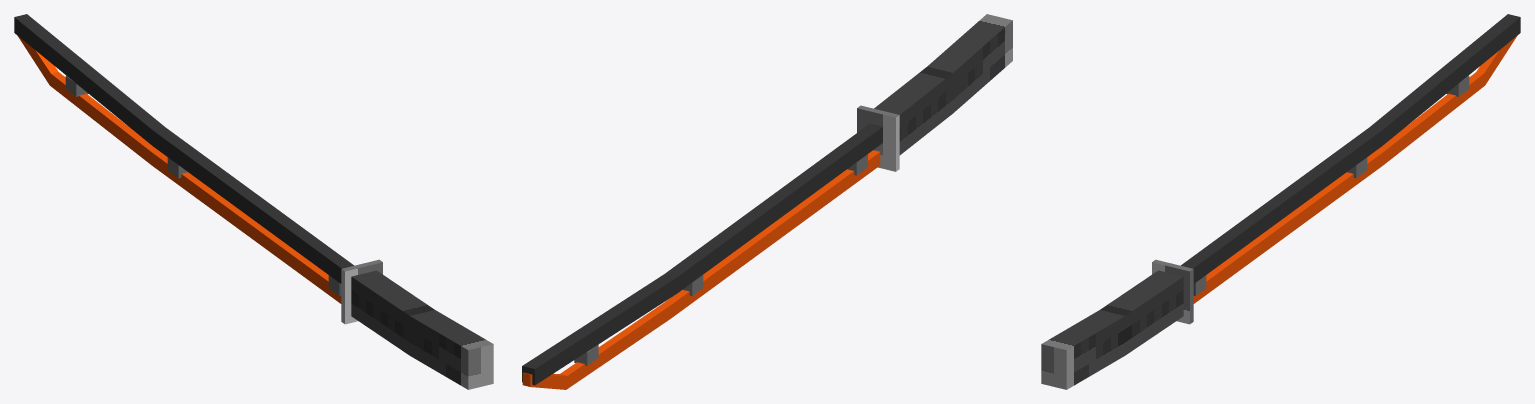
File: scerelisque.fbx
The picture shows the model from 3 angles, left to right: view 1: azimuth 30°, elevation 25°; view 2: azimuth 150°, elevation 25°; view 3: azimuth 330°, elevation 25°; orthographic projection. The views are drawn at different scales.
Visible parts, largest first — view 1: cube_4, cube_5, cube, cube_6; view 2: cube_4, cube_5, cube, cube_6; view 3: cube_4, cube_5, cube, cube_6.
Part boxes in pixels (bbox=[...]): cube_4: bbox=[14, 14, 353, 283]; cube_5: bbox=[351, 270, 493, 389]; cube: bbox=[18, 36, 341, 303]; cube_6: bbox=[341, 259, 382, 324]; cube_4: bbox=[522, 123, 882, 385]; cube_5: bbox=[874, 14, 1012, 155]; cube: bbox=[522, 150, 880, 389]; cube_6: bbox=[857, 105, 899, 171]; cube_4: bbox=[1181, 14, 1520, 283]; cube_5: bbox=[1041, 270, 1183, 389]; cube: bbox=[1193, 36, 1516, 303]; cube_6: bbox=[1152, 259, 1193, 324].
Size of the model in its own units: 18.75 by 27.5 by 396.
1 material, 1 textured.
